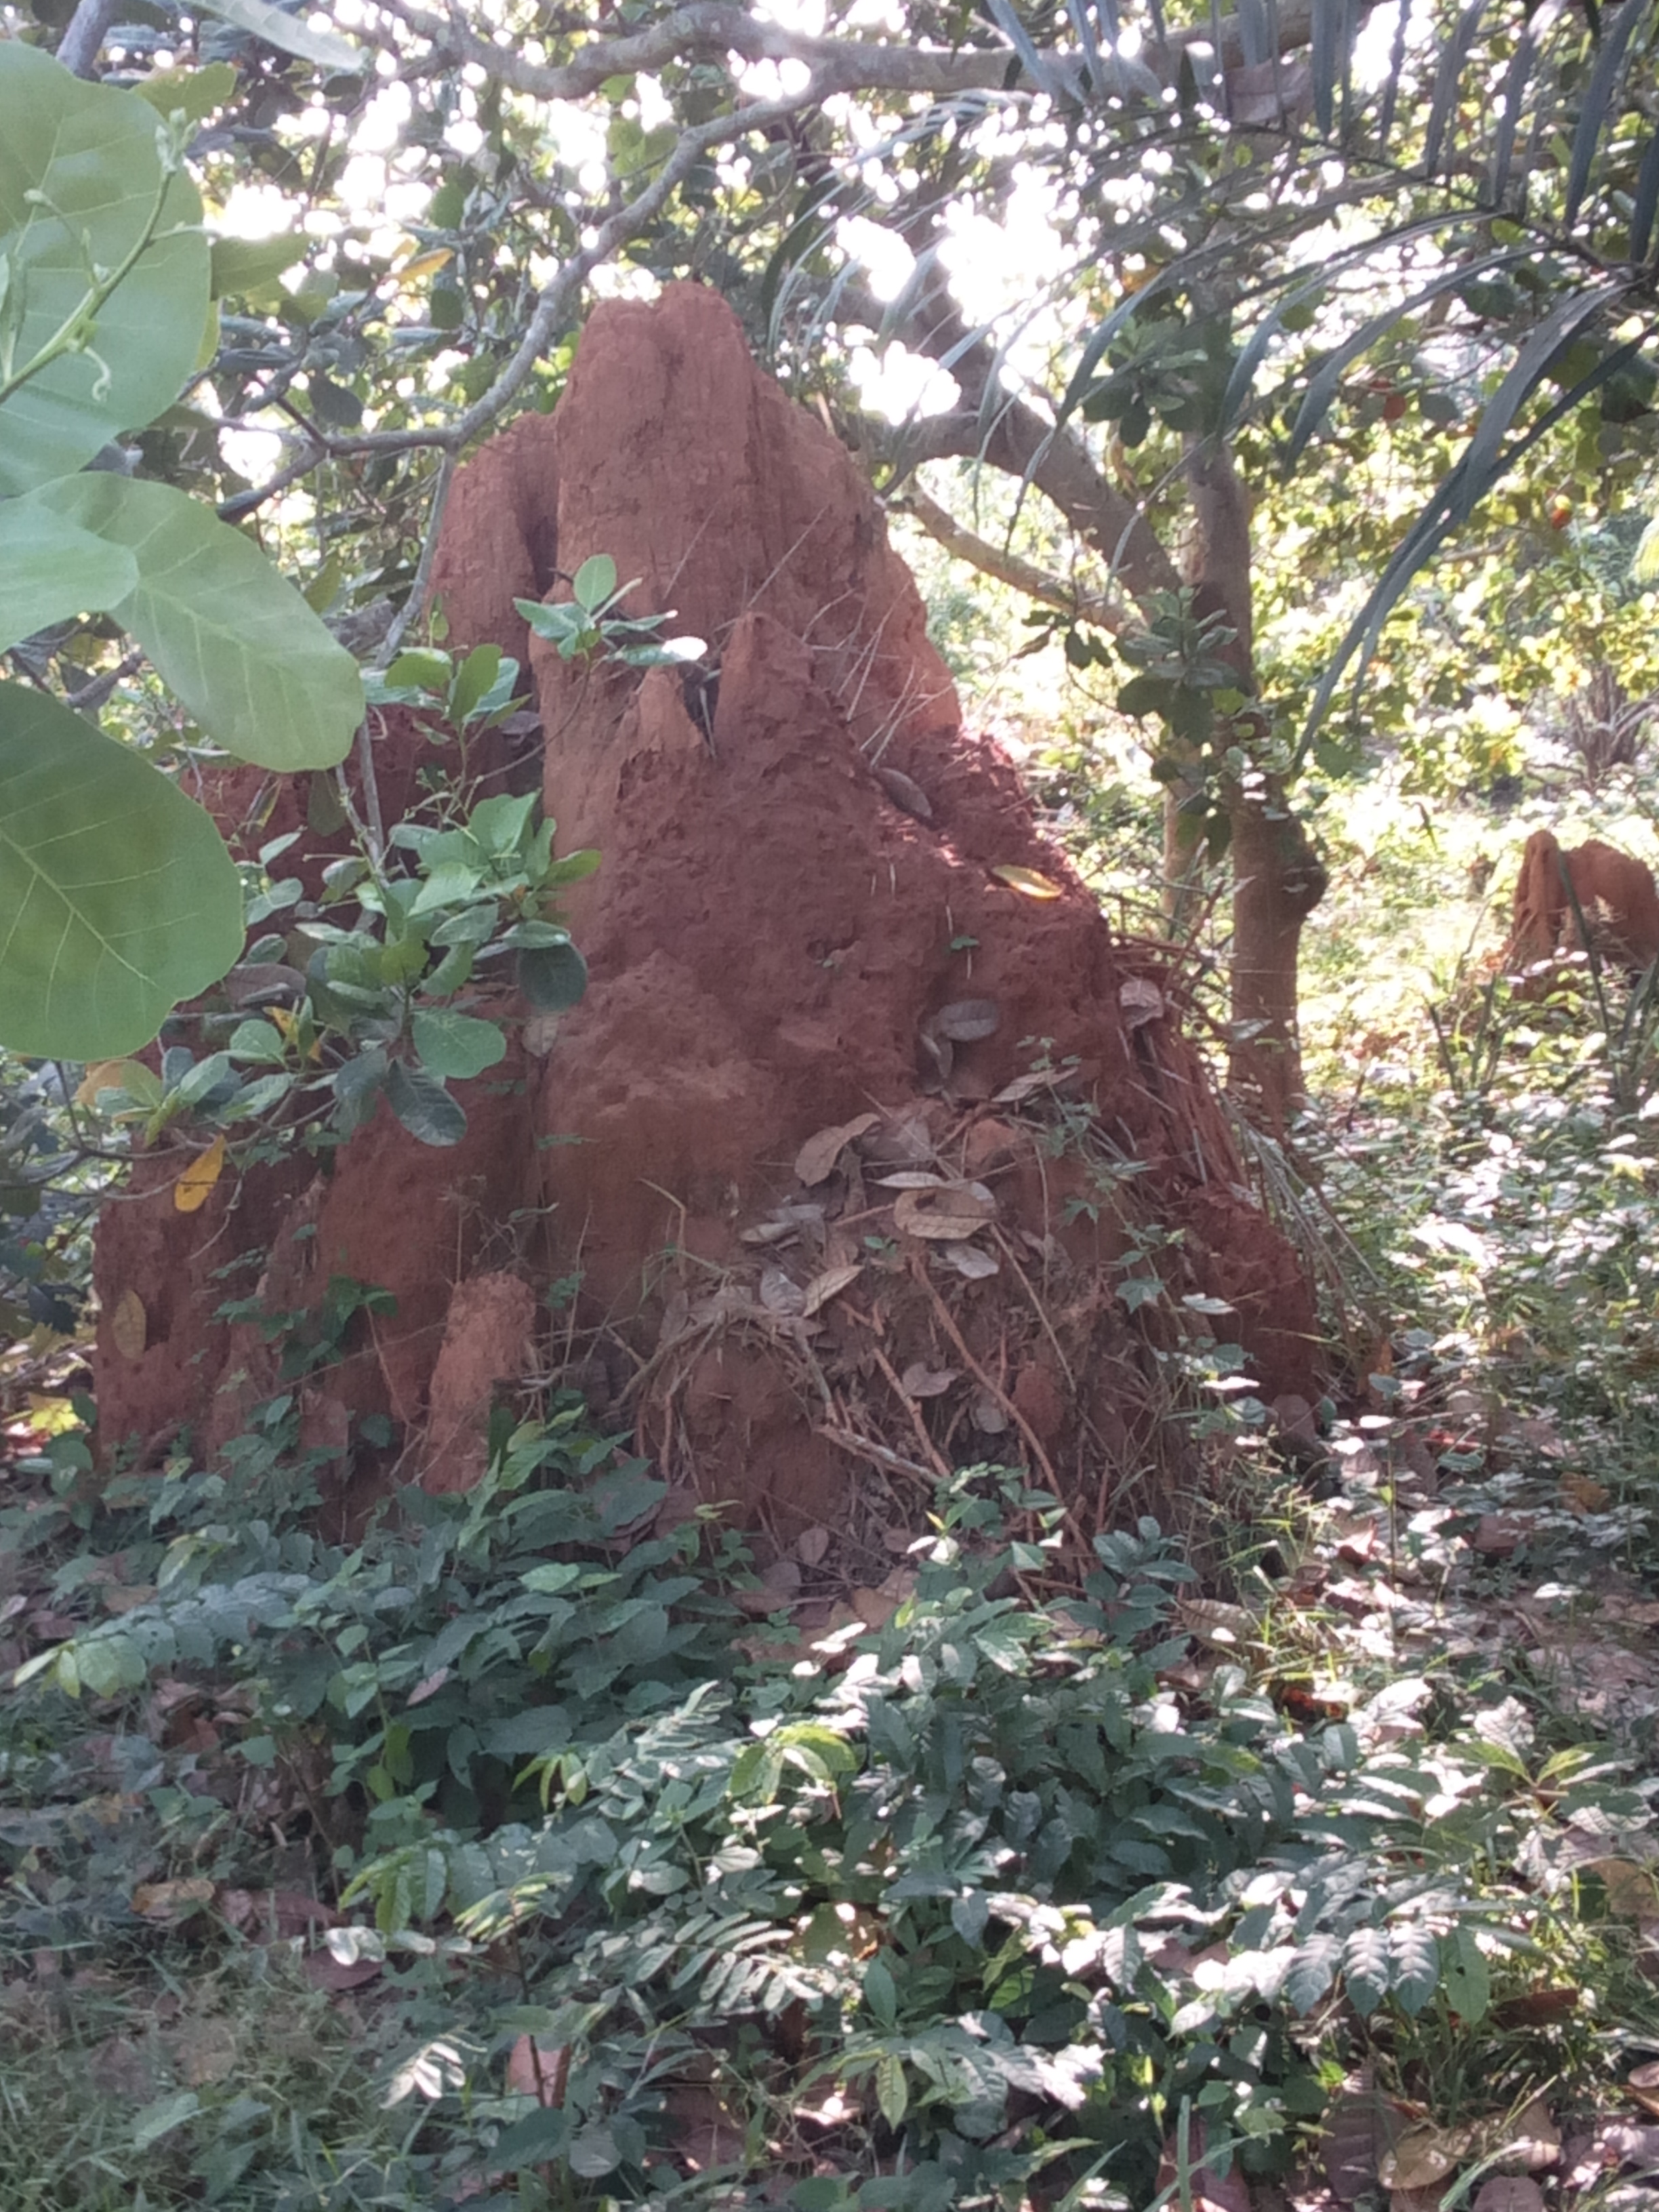Termites: (617, 669, 1164, 1486), (432, 286, 927, 636)
